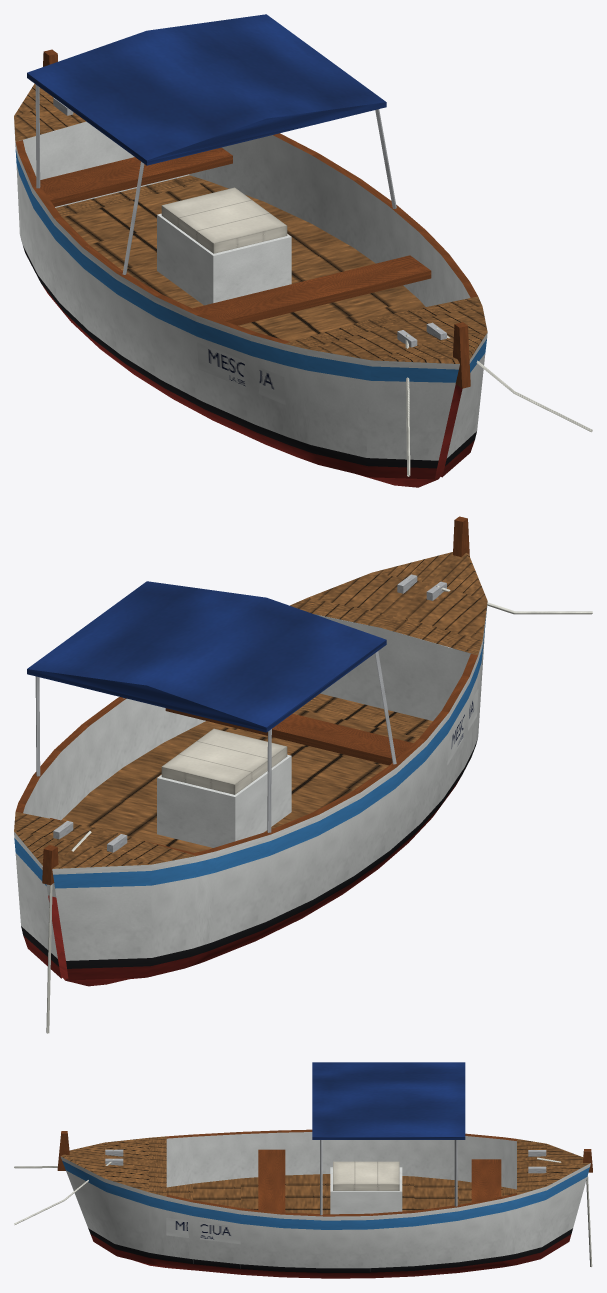
Rendered from SM_Morin_Barca_Gozzo_FasciaAzzurra_Prua.fbx.
3 views of the same model, one above another, from view 1: azimuth 30°, elevation 25°; view 2: azimuth 150°, elevation 25°; view 3: azimuth 270°, elevation 25° (orthographic). The views are drawn at different scales.
Visible parts, largest first — view 1: SM_Morin_Barca_Gozzo_FasciaAzzurra_Prua; view 2: SM_Morin_Barca_Gozzo_FasciaAzzurra_Prua; view 3: SM_Morin_Barca_Gozzo_FasciaAzzurra_Prua.
Part boxes in pixels (box(x1,y1,x2,y2)): SM_Morin_Barca_Gozzo_FasciaAzzurra_Prua: box(14, 14, 592, 487); SM_Morin_Barca_Gozzo_FasciaAzzurra_Prua: box(14, 516, 592, 1033); SM_Morin_Barca_Gozzo_FasciaAzzurra_Prua: box(14, 1062, 592, 1278).
Bounding box in the file's own units: 229 × 644 × 222.
1 material, 1 textured.
